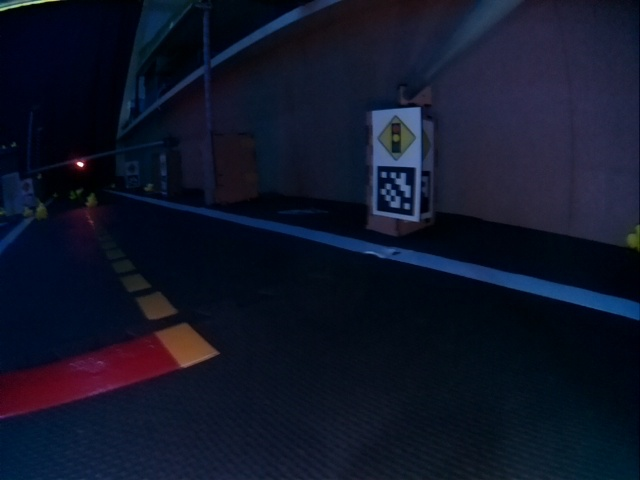QR code: (373, 169, 416, 221)
Signal sign: (376, 113, 417, 162)
